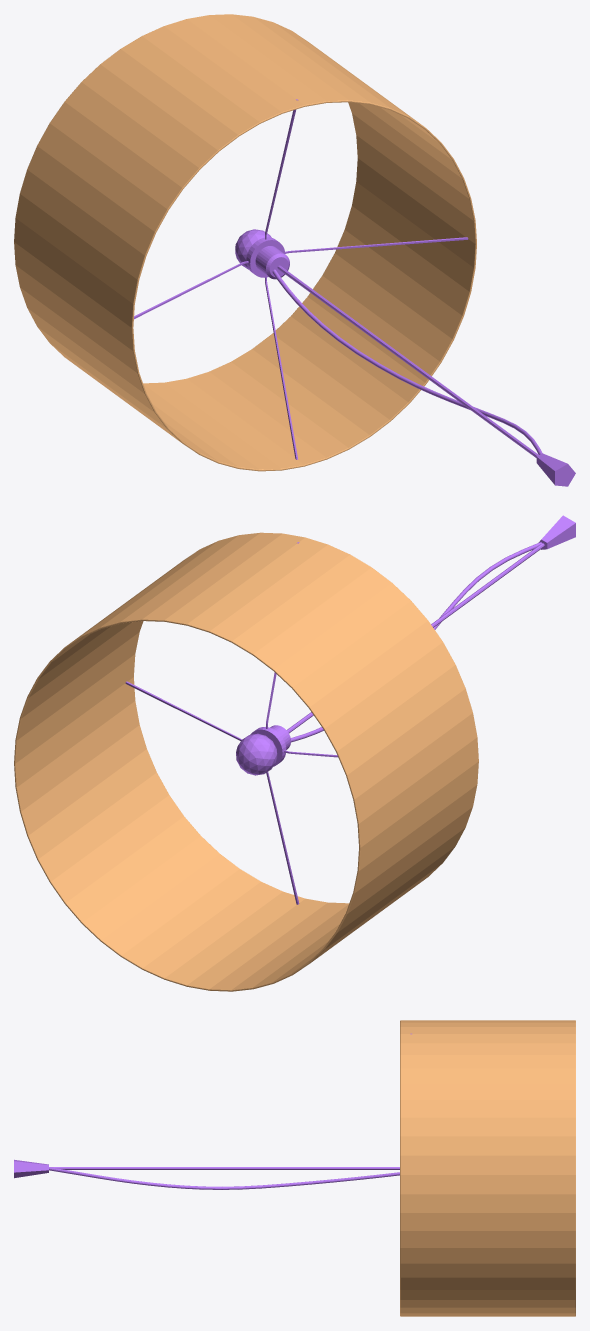
File: llm149.fbx
The picture shows the model from 3 angles, top to bottom: view 1: azimuth 30°, elevation 25°; view 2: azimuth 150°, elevation 25°; view 3: azimuth 270°, elevation 25°; orthographic projection. The views are drawn at different scales.
Visible parts, largest first — view 1: SHADE, LAMP; view 2: SHADE, LAMP; view 3: SHADE, LAMP.
Boxes of the visible parts, x1=… form: SHADE: x1=14, y1=14, x2=476, y2=471; LAMP: x1=134, y1=99, x2=575, y2=486; SHADE: x1=14, y1=532, x2=478, y2=991; LAMP: x1=125, y1=515, x2=575, y2=904; SHADE: x1=400, y1=1020, x2=575, y2=1316; LAMP: x1=14, y1=1033, x2=411, y2=1189.
Bounding box in the file's own units: 42.25 × 42.25 × 80.08.
